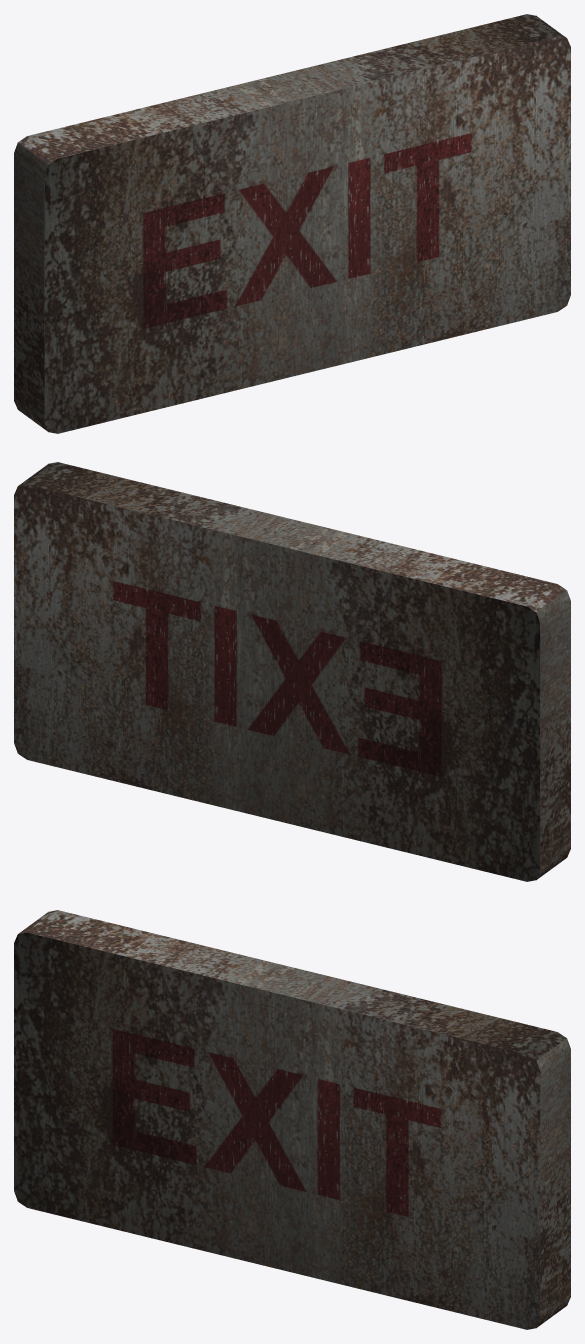
Rendered from exit_sign.glb.
The picture shows the model from 3 angles, top to bottom: view 1: azimuth 30°, elevation 25°; view 2: azimuth 150°, elevation 25°; view 3: azimuth 330°, elevation 25°; orthographic projection.
Parts seen in each view (by area): view 1: Object_2; view 2: Object_2; view 3: Object_2.
Boxes of the visible parts, box(x1,y1,x2,y2) form: Object_2: box(14, 14, 570, 433); Object_2: box(14, 462, 570, 881); Object_2: box(14, 910, 570, 1329).
Size of the model in its own units: 2 by 1 by 0.2016.
1 material, 1 textured.
